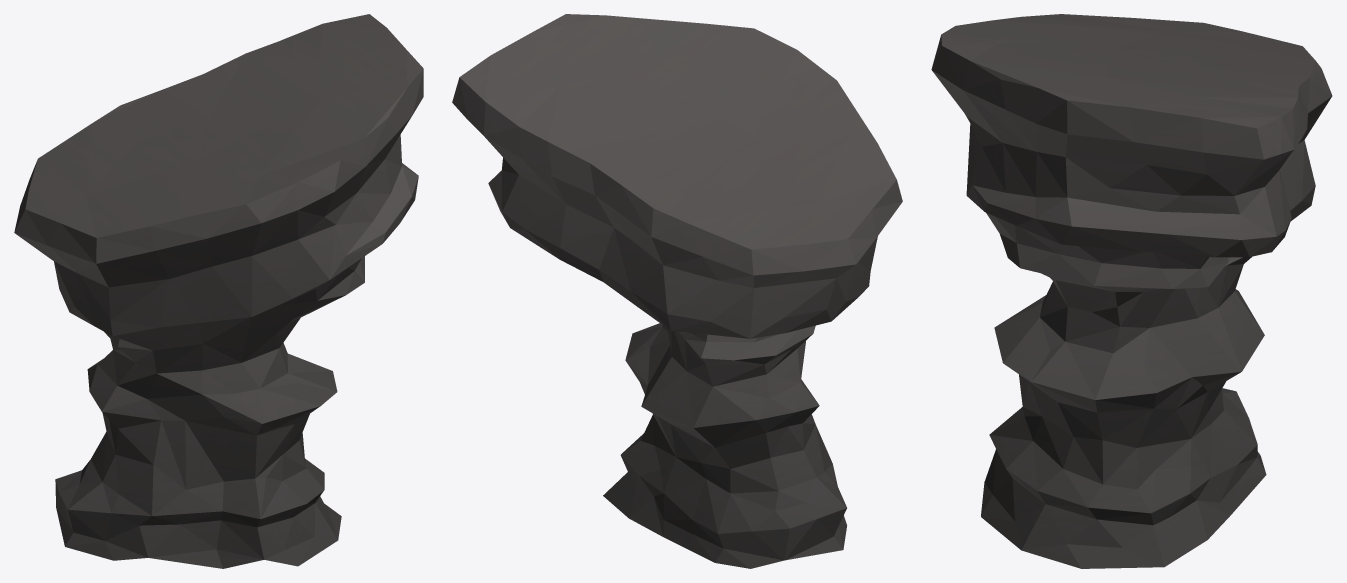
File: ZLP_Rock_D_4.FBX
The picture shows the model from 3 angles, left to right: view 1: azimuth 30°, elevation 25°; view 2: azimuth 150°, elevation 25°; view 3: azimuth 270°, elevation 25°; orthographic projection. The views are drawn at different scales.
Visible parts, largest first — view 1: ZLP_Rock_D_4; view 2: ZLP_Rock_D_4; view 3: ZLP_Rock_D_4.
Part boxes in pixels (x1=…): ZLP_Rock_D_4: x1=14, y1=14, x2=423, y2=568; ZLP_Rock_D_4: x1=452, y1=14, x2=902, y2=568; ZLP_Rock_D_4: x1=931, y1=14, x2=1332, y2=568.
Bounding box in the file's own units: 240 × 261 × 185.
